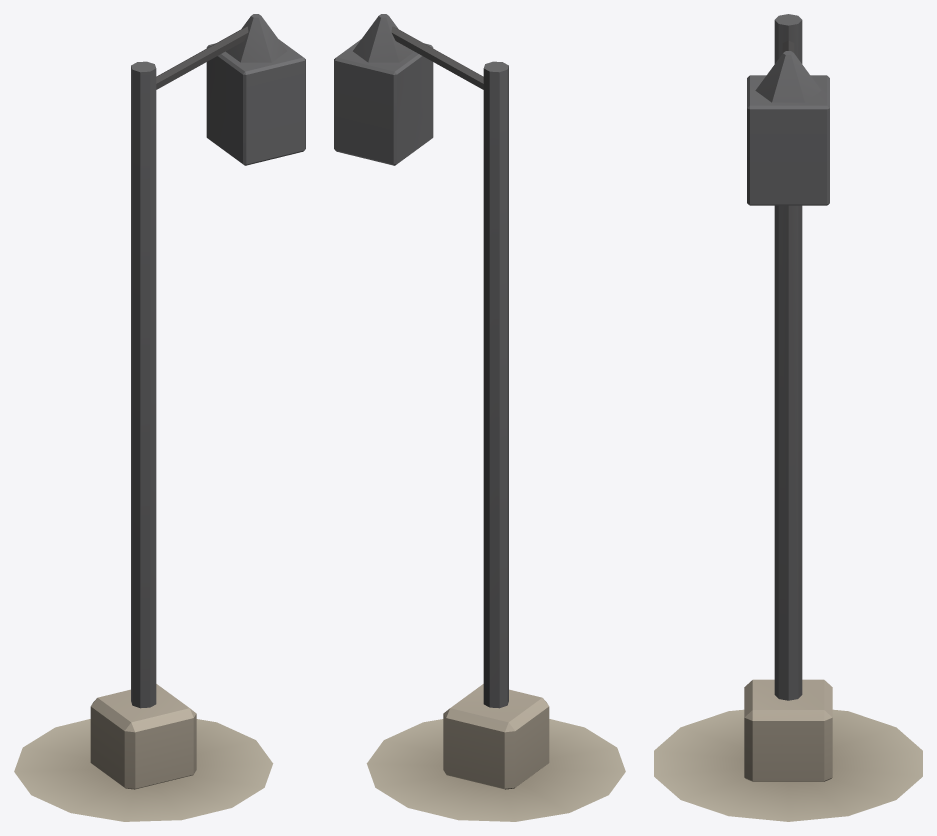
File: lamp_post.glb
3 views of the same model, side by side, from view 1: azimuth 30°, elevation 25°; view 2: azimuth 150°, elevation 25°; view 3: azimuth 270°, elevation 25° (orthographic). The views are drawn at different scales.
Parts seen in each view (by area): view 1: lamp_post; view 2: lamp_post; view 3: lamp_post.
Boxes of the visible parts, box(x1,y1,x2,y2) form: lamp_post: box(14, 14, 305, 821); lamp_post: box(334, 14, 625, 821); lamp_post: box(654, 14, 922, 821).
Bounding box in the file's own units: 1.14 × 3.1 × 0.975.
